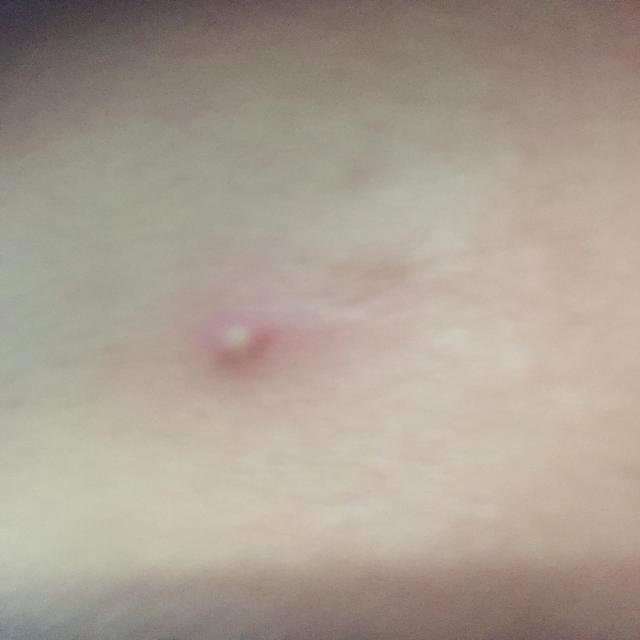Pimples: (202, 305, 299, 373)
